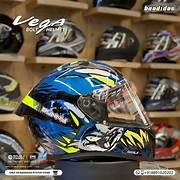Helmet: (96, 26, 138, 60)
